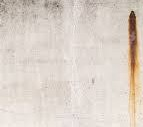Corrosion: (128, 10, 137, 127)
